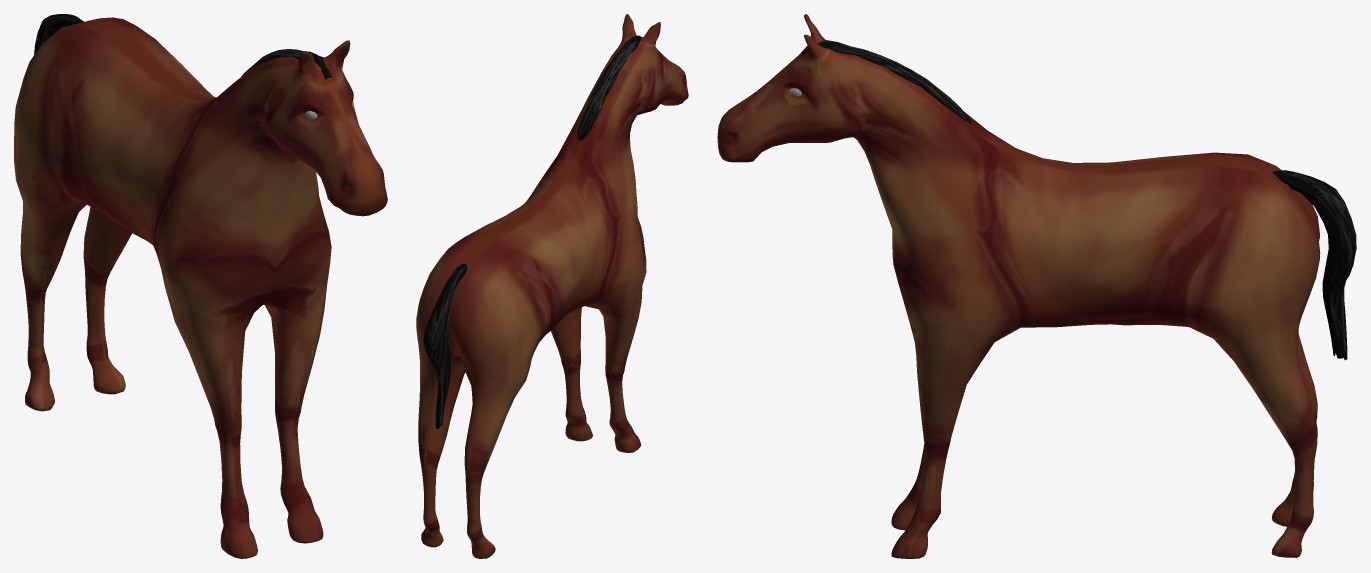
The model's file is Caballo.obj.
3 views of the same model, side by side, from view 1: azimuth 30°, elevation 25°; view 2: azimuth 150°, elevation 25°; view 3: azimuth 270°, elevation 25° (orthographic). The views are drawn at different scales.
Parts seen in each view (by area): view 1: Horse_Horse.001; view 2: Horse_Horse.001; view 3: Horse_Horse.001.
Part boxes in pixels (<box>): Horse_Horse.001: <box>14,14,387,558</box>; Horse_Horse.001: <box>416,14,688,558</box>; Horse_Horse.001: <box>717,14,1356,558</box>.
Size of the model in its own units: 3.56 by 11.71 by 13.17.
1 material, 1 textured.
